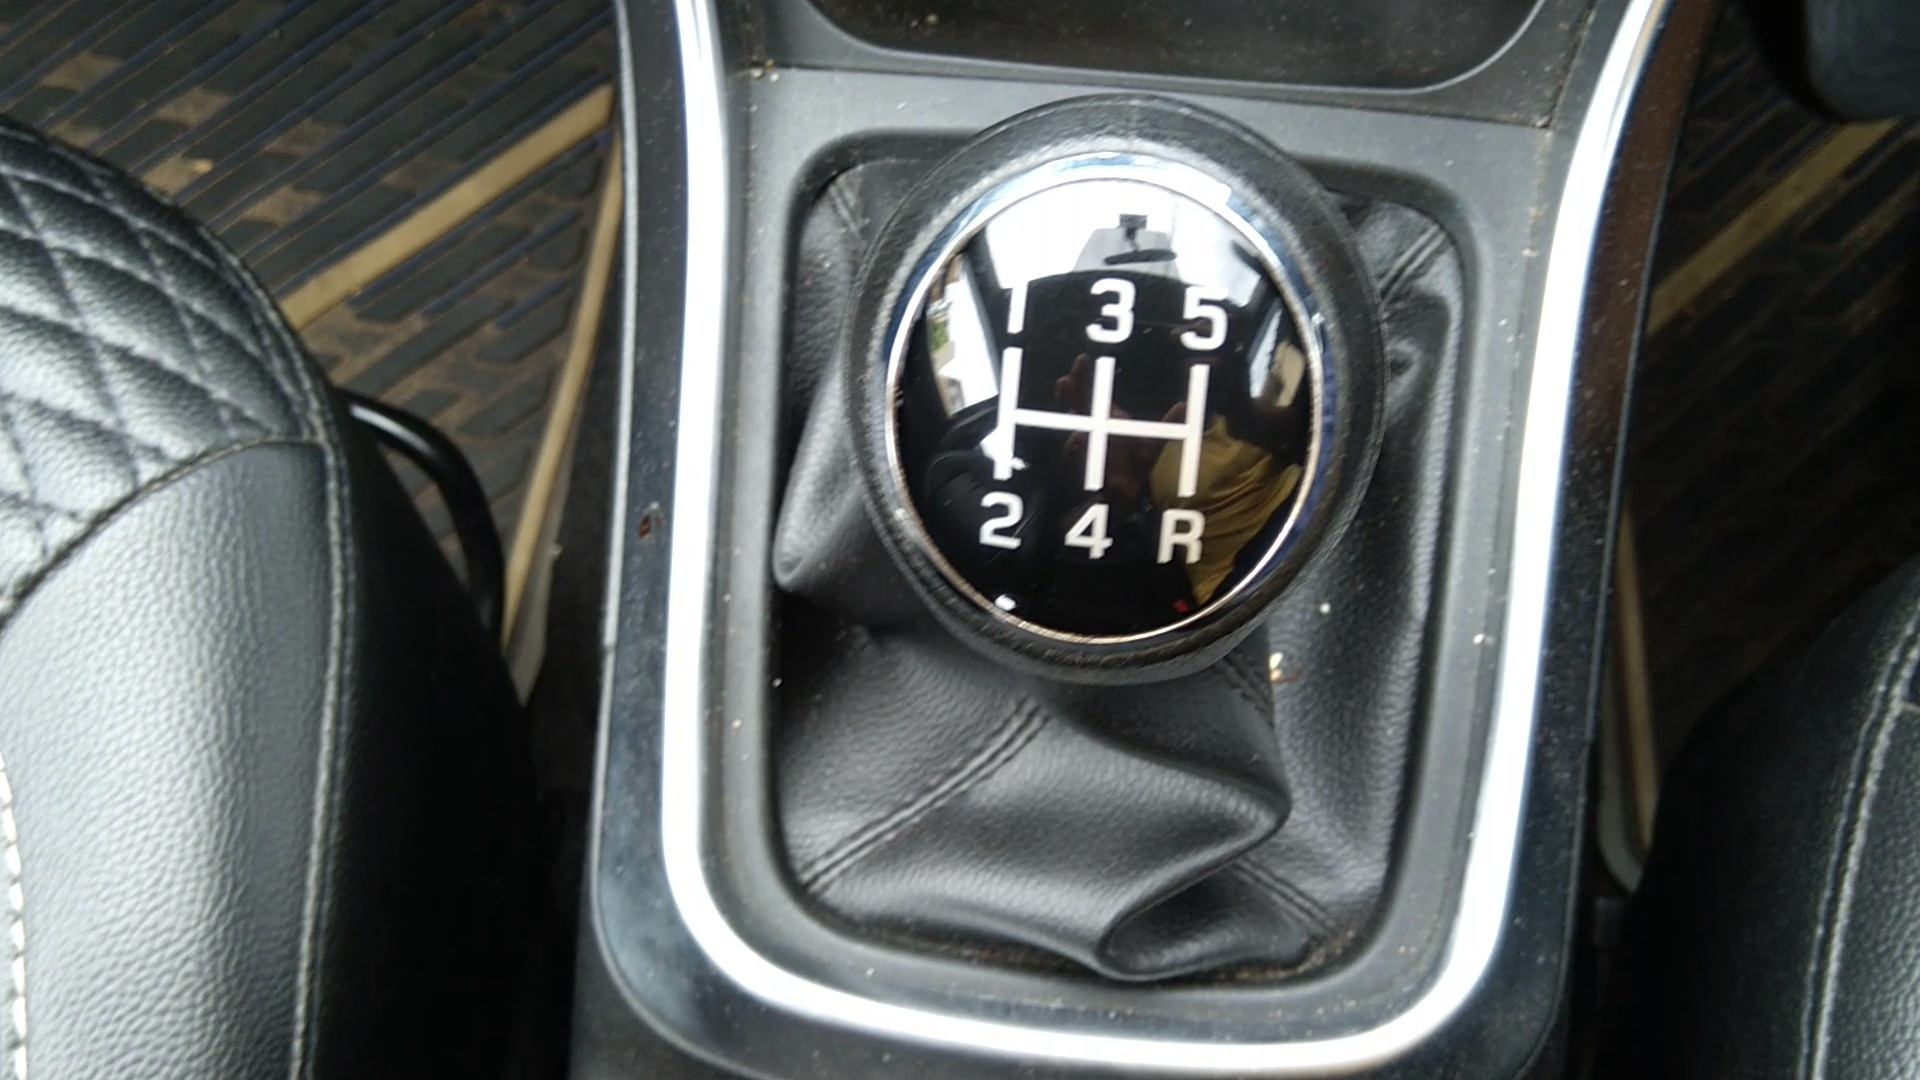manual_gear: (825, 80, 1416, 731)
